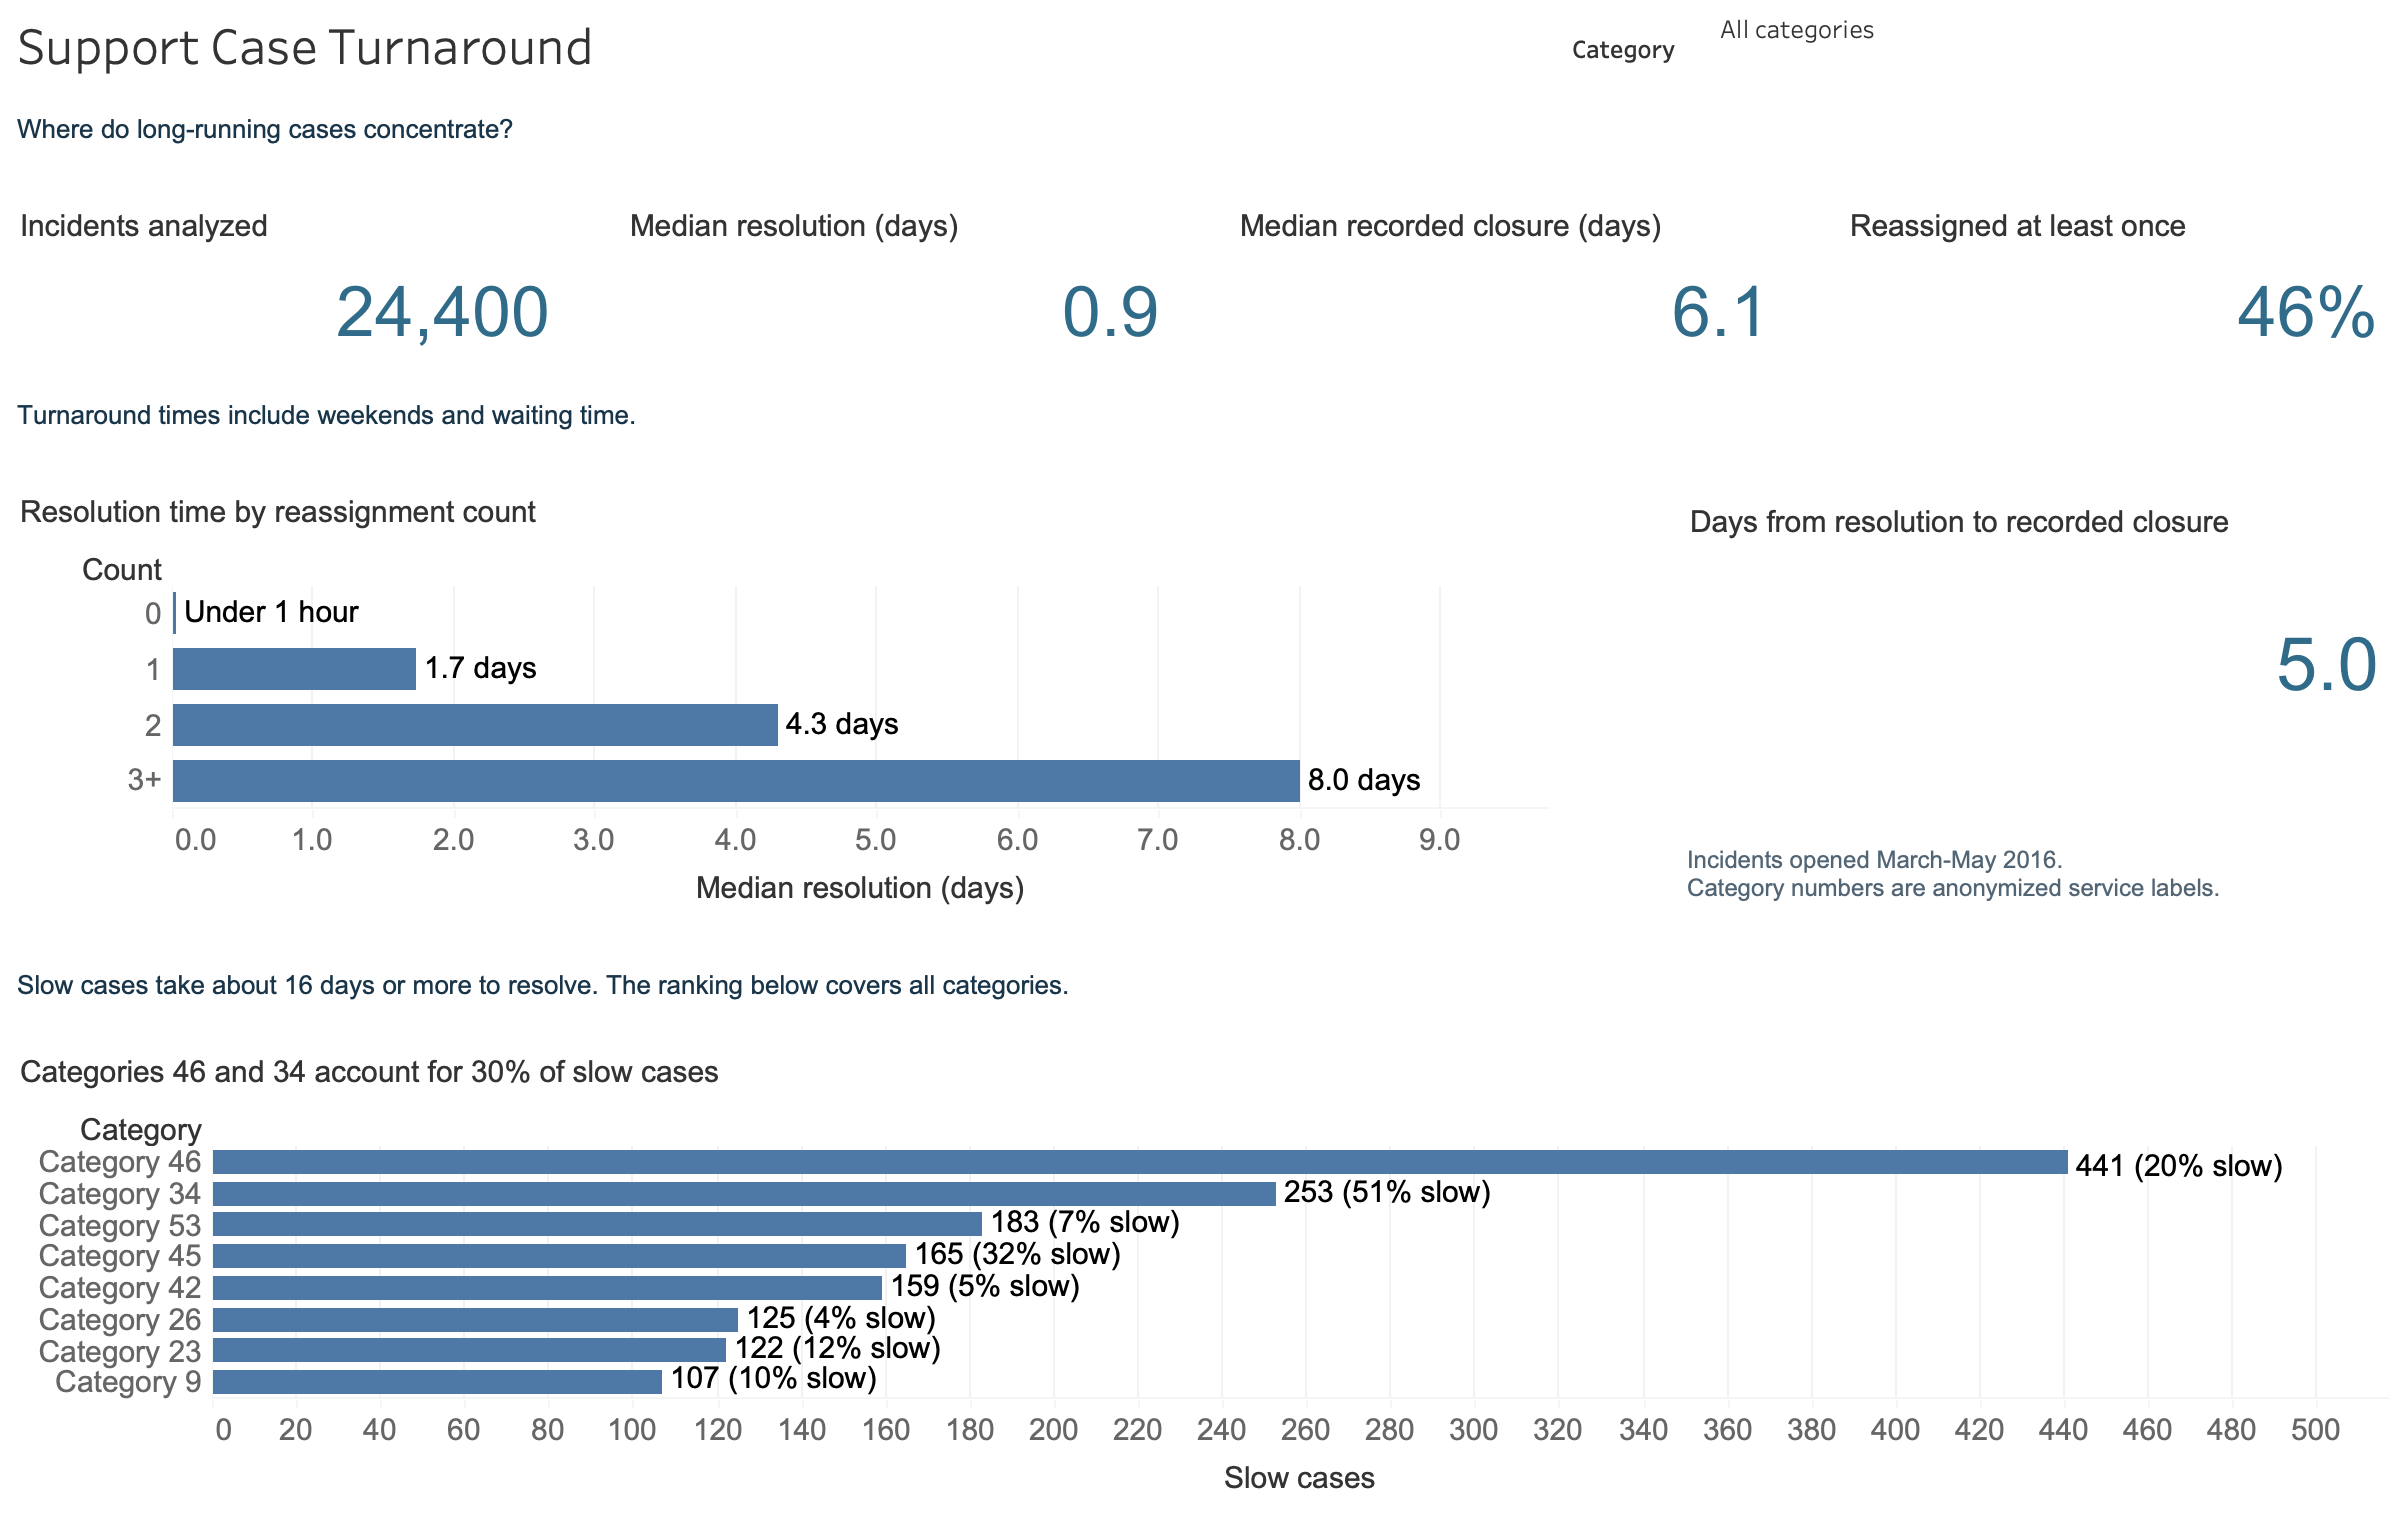

The page's visual inventory and layout, read from the dashboard file:
{"tool":"tableau","page":{"name":"Support Case Turnaround","canvas":[1200,760],"ordinal":0},"visuals":[{"type":"title","box":[0,0,750,45]},{"type":"parameter","param":"[Parameters].[ReportScope]","box":[780,0,420,48]},{"type":"text","box":[0,48,1200,34]},{"type":"worksheet","title":"Cases analysed","mark":"Text","box":[0,92,285,98]},{"type":"worksheet","title":"Median days to resolution","mark":"Text","box":[305,92,285,98]},{"type":"worksheet","title":"Median days to recorded closure","mark":"Text","box":[610,92,285,98]},{"type":"worksheet","title":"Cases reassigned","mark":"Text","box":[915,92,285,98]},{"type":"text","box":[0,193,1200,30]},{"type":"worksheet","title":"Resolution time by reassignment band","mark":"Bar","rows":["reassignment_band"],"cols":["HeadlineResolution"],"box":[0,235,780,230]},{"type":"worksheet","title":"Median post-resolution interval days","mark":"Text","box":[835,240,365,155]},{"type":"text","box":[835,410,365,55]},{"type":"text","box":[0,478,1200,30]},{"type":"worksheet","title":"Material categories contributing slow cases","mark":"Bar","rows":["first_category"],"cols":["slow_resolution_flag"],"box":[0,515,1200,245]}]}

Visuals, with their boxes in screenshot pixels (x1, y1, x2, y2), scaled from the page's 1200x760 canvas onto the 2400x1520 screenshot:
title: left=0, top=0, right=1500, bottom=90
parameter: left=1560, top=0, right=2399, bottom=96
text: left=0, top=96, right=2399, bottom=164
"Cases analysed" worksheet (Text marks): left=0, top=184, right=570, bottom=380
"Median days to resolution" worksheet (Text marks): left=610, top=184, right=1180, bottom=380
"Median days to recorded closure" worksheet (Text marks): left=1220, top=184, right=1790, bottom=380
"Cases reassigned" worksheet (Text marks): left=1830, top=184, right=2399, bottom=380
text: left=0, top=386, right=2399, bottom=446
"Resolution time by reassignment band" worksheet (Bar marks): left=0, top=470, right=1560, bottom=930
"Median post-resolution interval days" worksheet (Text marks): left=1670, top=480, right=2399, bottom=790
text: left=1670, top=820, right=2399, bottom=930
text: left=0, top=956, right=2399, bottom=1016
"Material categories contributing slow cases" worksheet (Bar marks): left=0, top=1030, right=2399, bottom=1519
